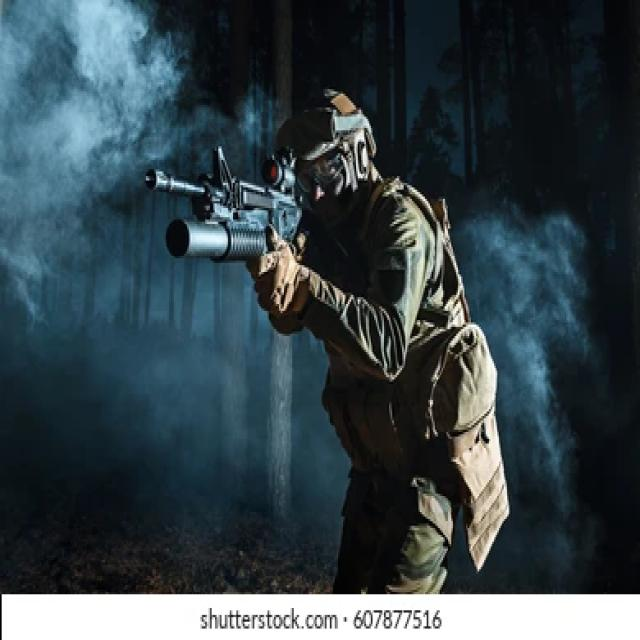soldier: (135, 48, 523, 588)
